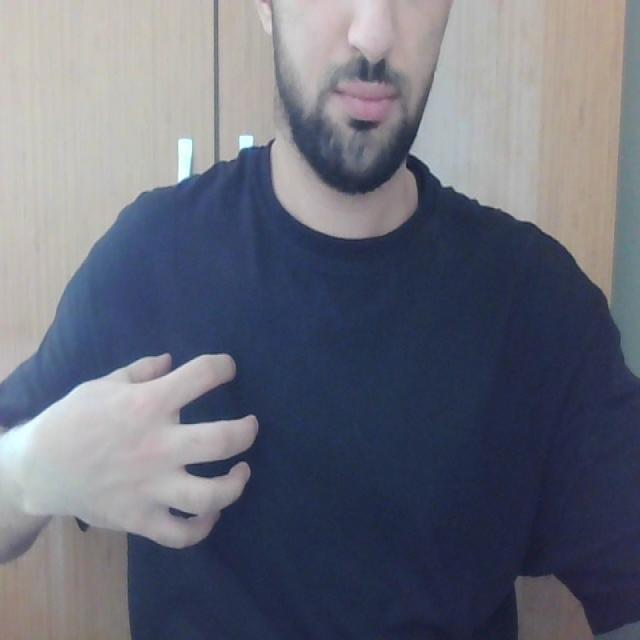Anne: (29, 293, 552, 563)
